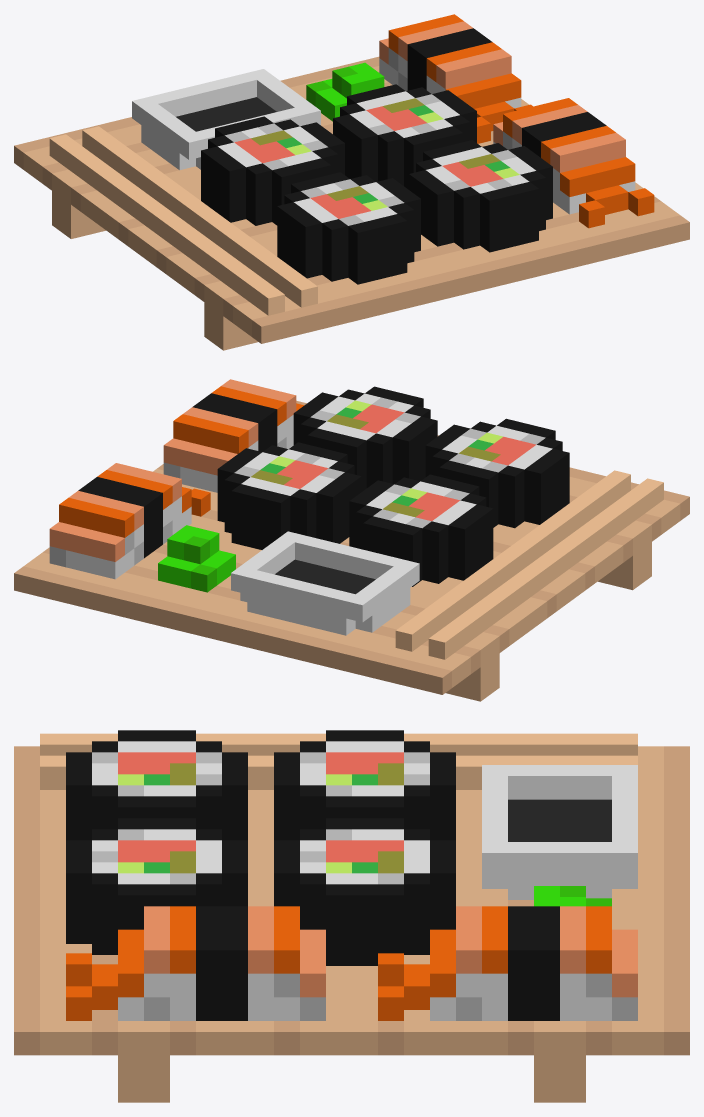
Rendered from sushi_voxel_art.glb.
The picture shows the model from 3 angles, top to bottom: view 1: azimuth 30°, elevation 25°; view 2: azimuth 150°, elevation 25°; view 3: azimuth 270°, elevation 25°; orthographic projection. The views are drawn at different scales.
Visible parts, largest first — view 1: Object_2; view 2: Object_2; view 3: Object_2.
Boxes of the visible parts, x1,y1,x2,y2 form: Object_2: [14, 14, 689, 350]; Object_2: [14, 379, 689, 701]; Object_2: [14, 730, 689, 1102].
Size of the model in its own units: 2.6 by 0.6 by 2.6.
1 material, 1 textured.
